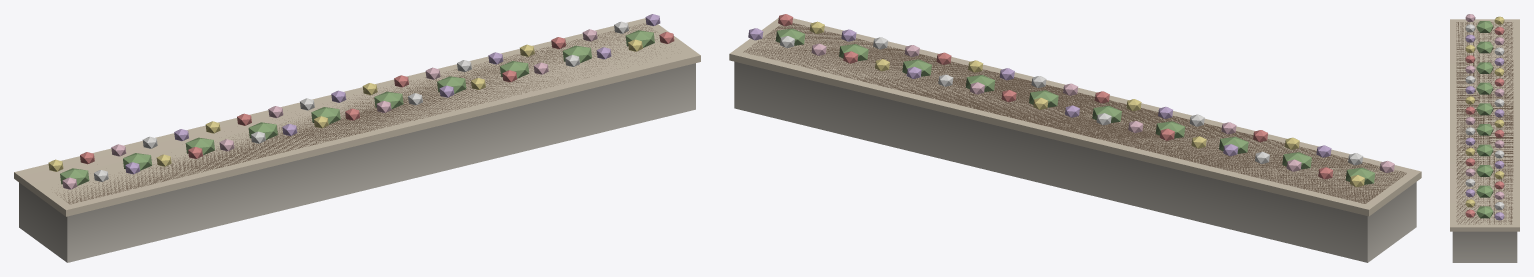
File: roof_flowerbed_long__6.glb
3 renders of one model, left to right at view 1: azimuth 30°, elevation 25°; view 2: azimuth 150°, elevation 25°; view 3: azimuth 270°, elevation 25°, orthographic. The views are drawn at different scales.
Parts seen in each view (by area): view 1: roof.flowerbed_long__6; view 2: roof.flowerbed_long__6; view 3: roof.flowerbed_long__6.
Part boxes in pixels (x1=…): roof.flowerbed_long__6: x1=14, y1=14, x2=700, y2=262; roof.flowerbed_long__6: x1=729, y1=14, x2=1421, y2=262; roof.flowerbed_long__6: x1=1450, y1=14, x2=1519, y2=262.
Size of the model in its own units: 6.06 by 0.656 by 0.86.
